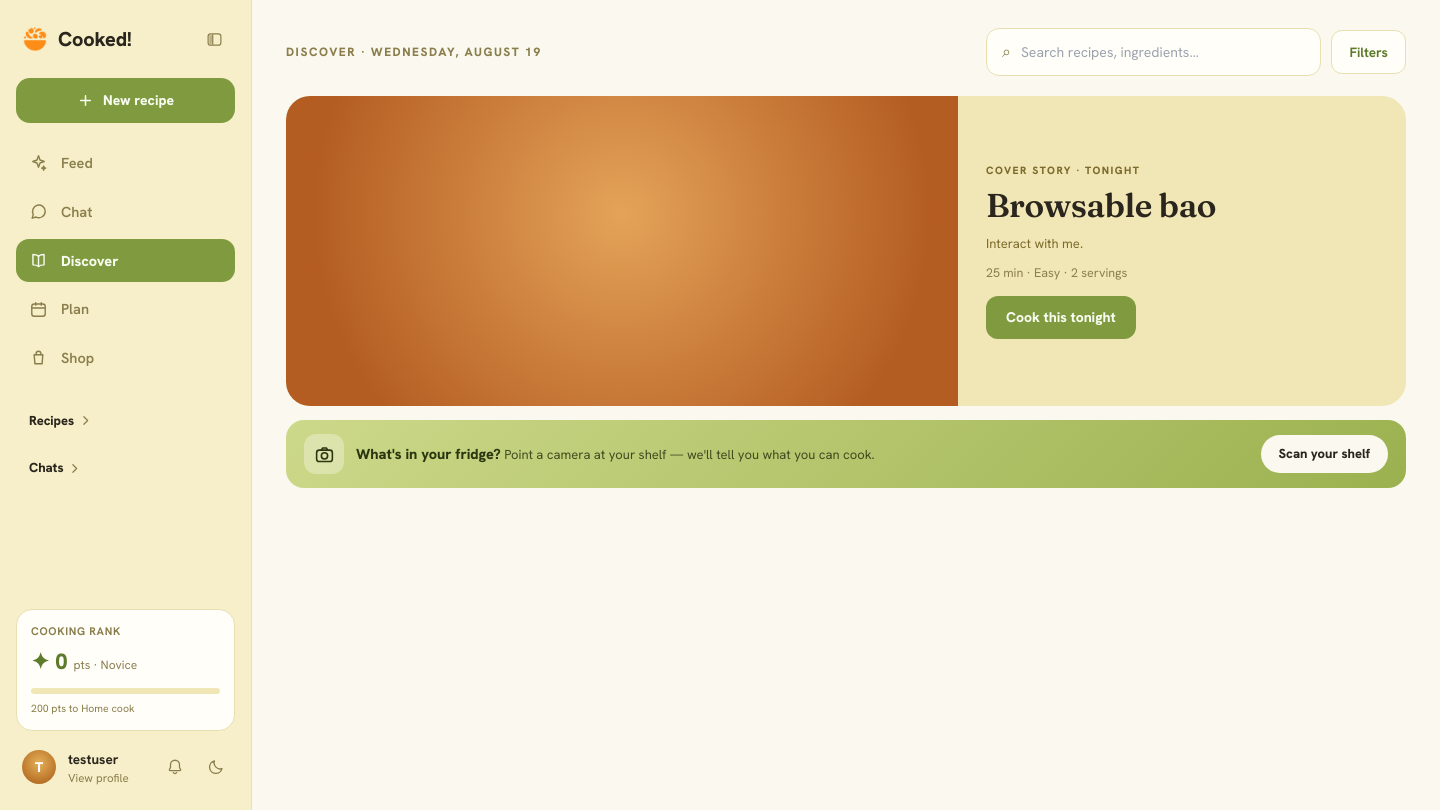
Test: BrowsePage social adoption › browse cards carry like/save and like POSTs through the shared hook
Type "bao" into the field labelled "Search recipes" at (1163, 52), box [1021, 42, 1305, 62]
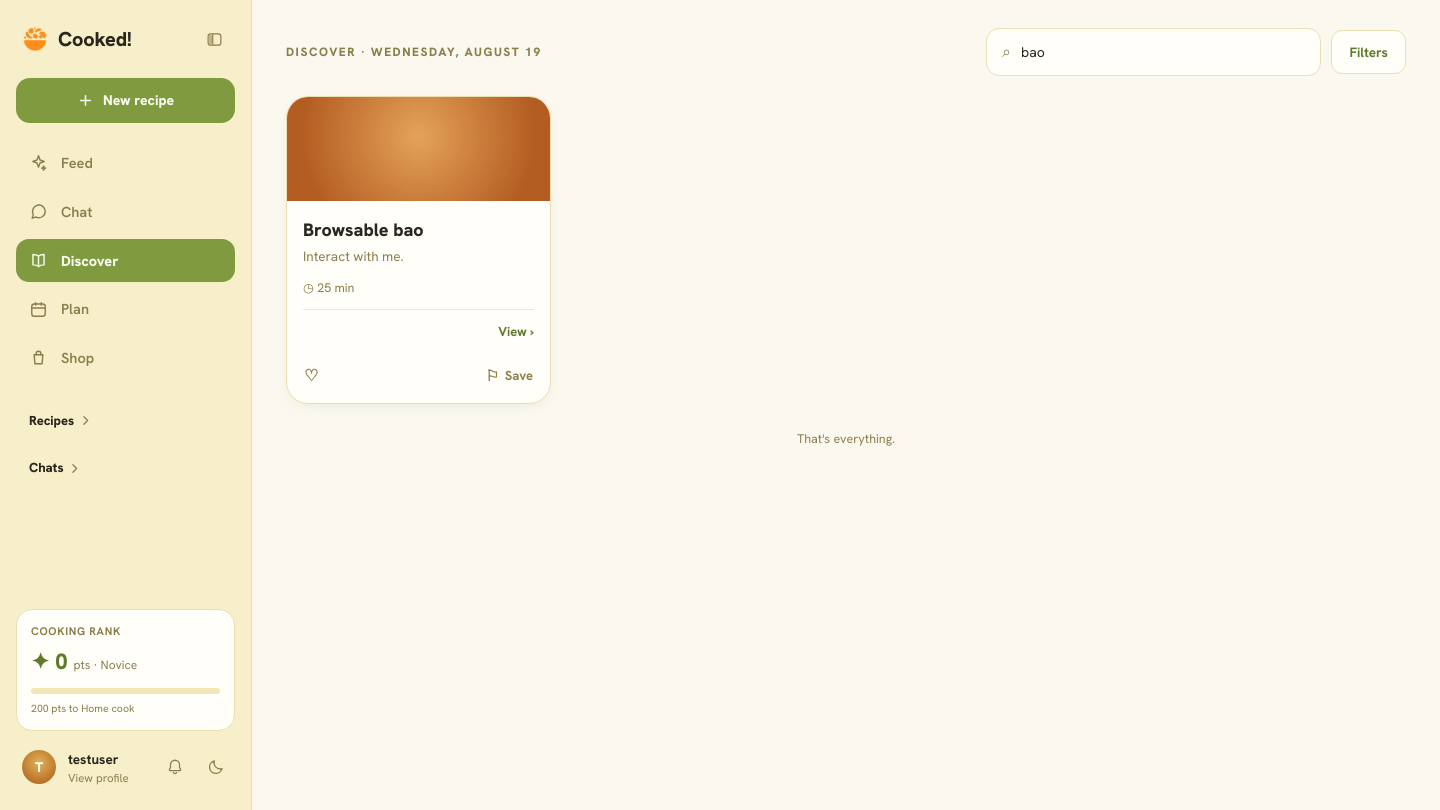
Expected: the text "Browsable bao" is shown, [303, 216, 424, 243]
Click the button named "Like" at (311, 376), box [295, 357, 327, 395]
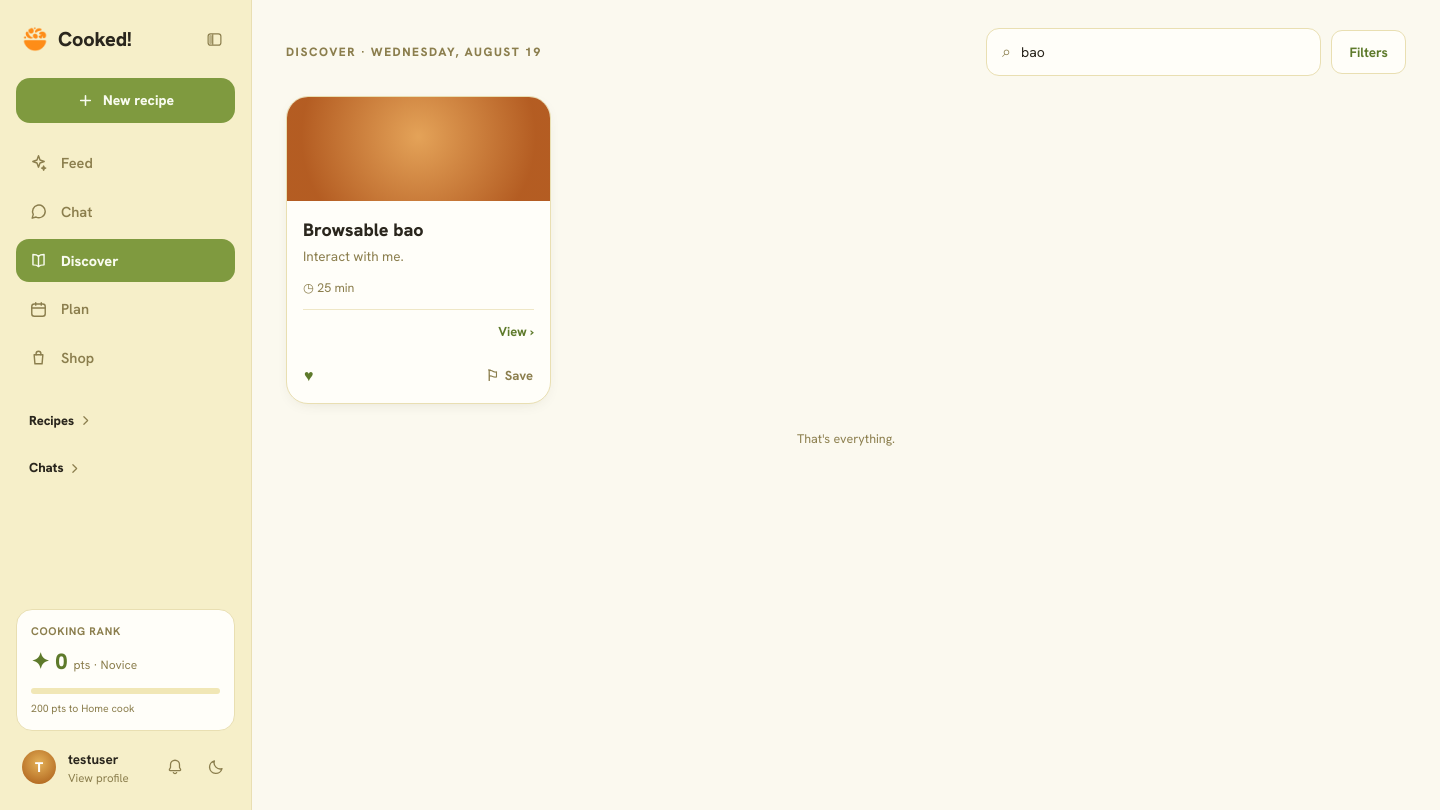
Expected: the button named "Unlike" is shown, [295, 357, 322, 395]
